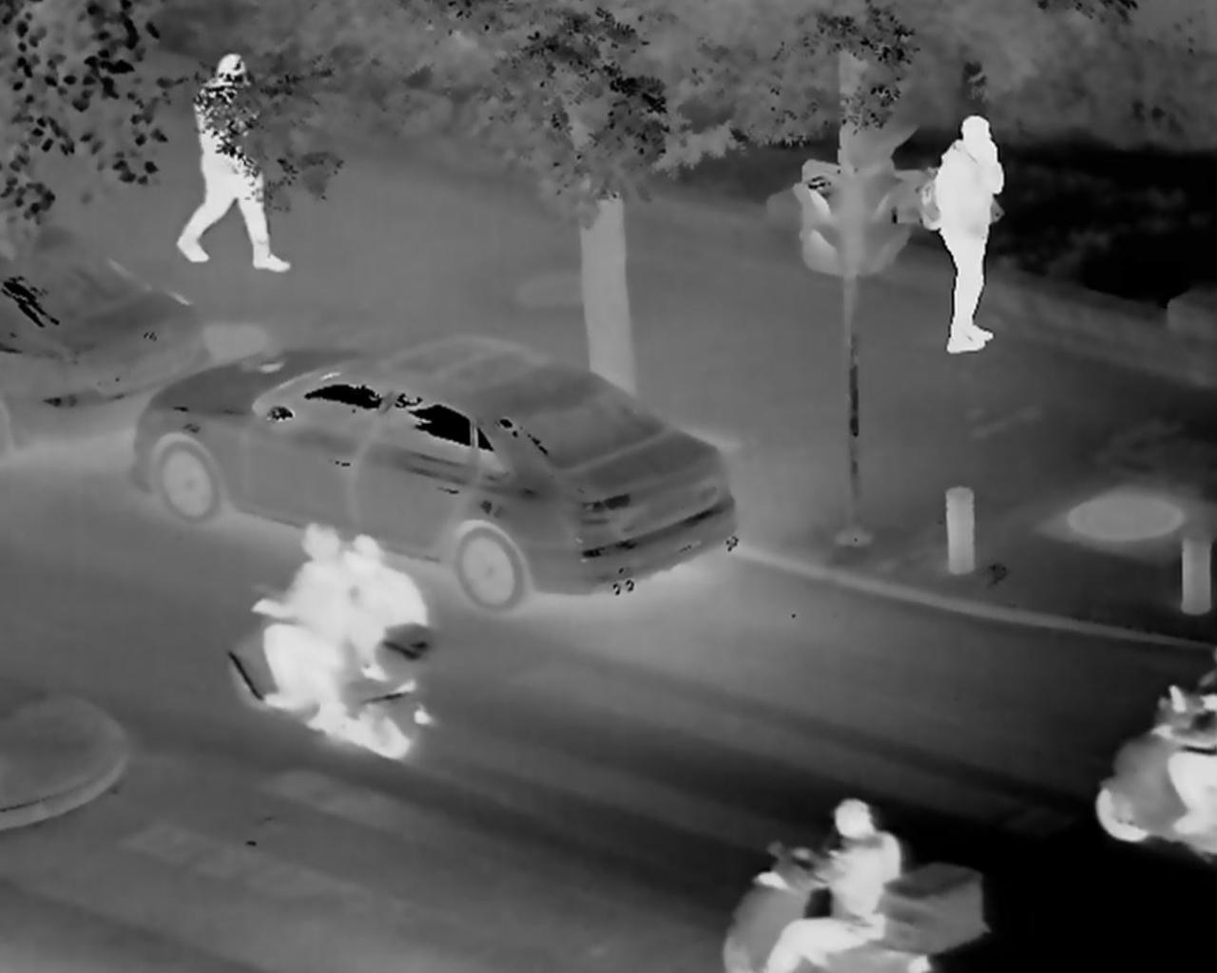person: (189, 46, 288, 267), (771, 801, 898, 973), (916, 111, 1001, 343), (267, 522, 338, 730), (344, 540, 418, 696), (1168, 673, 1217, 842)
